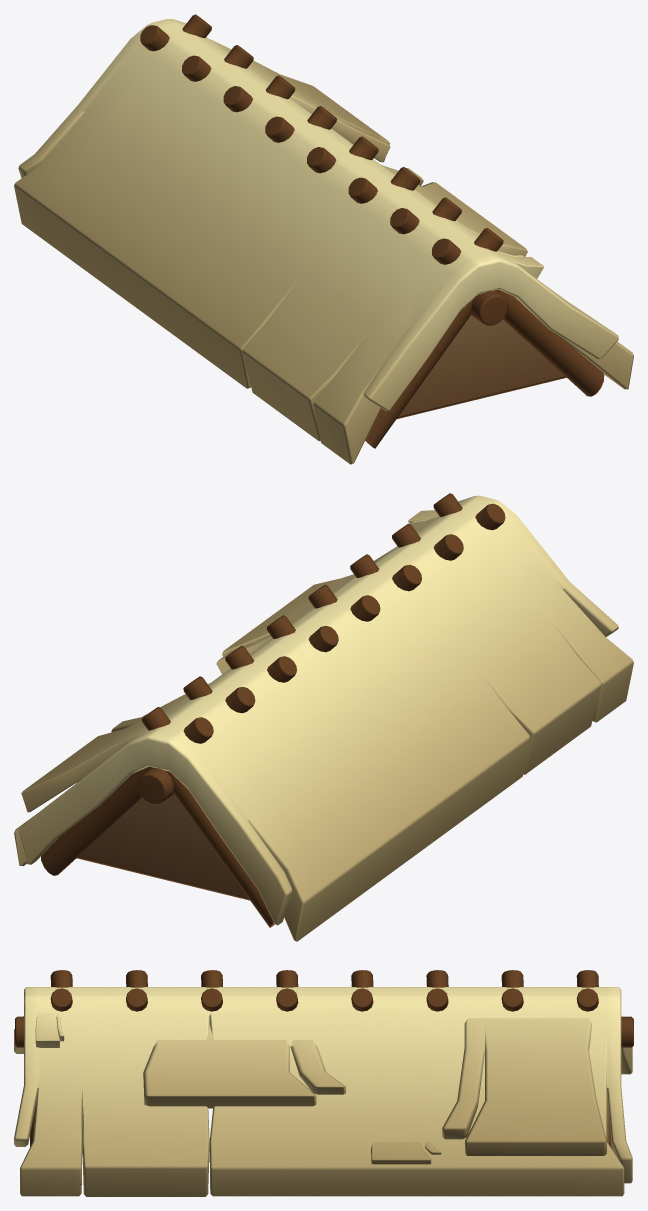
Rendered from SM_Clay_Roof_06.fbx.
3 views of the same model, one above another, from view 1: azimuth 30°, elevation 25°; view 2: azimuth 150°, elevation 25°; view 3: azimuth 270°, elevation 25° (orthographic). The views are drawn at different scales.
Visible parts, largest first — view 1: SM_Clay_Roof_06; view 2: SM_Clay_Roof_06; view 3: SM_Clay_Roof_06.
Part boxes in pixels (bbox=[...]): SM_Clay_Roof_06: bbox=[14, 14, 633, 464]; SM_Clay_Roof_06: bbox=[14, 493, 633, 941]; SM_Clay_Roof_06: bbox=[14, 970, 633, 1196].
Size of the model in its own units: 1.03 by 0.6168 by 2.09.
